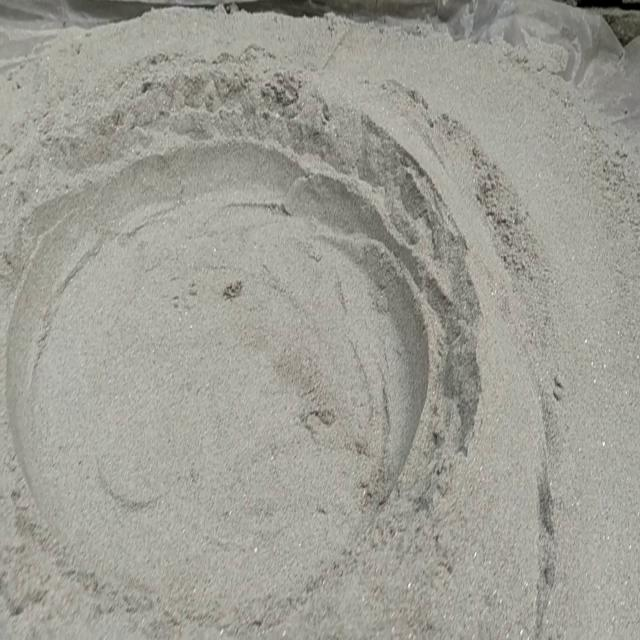C40: (13, 127, 448, 557)
